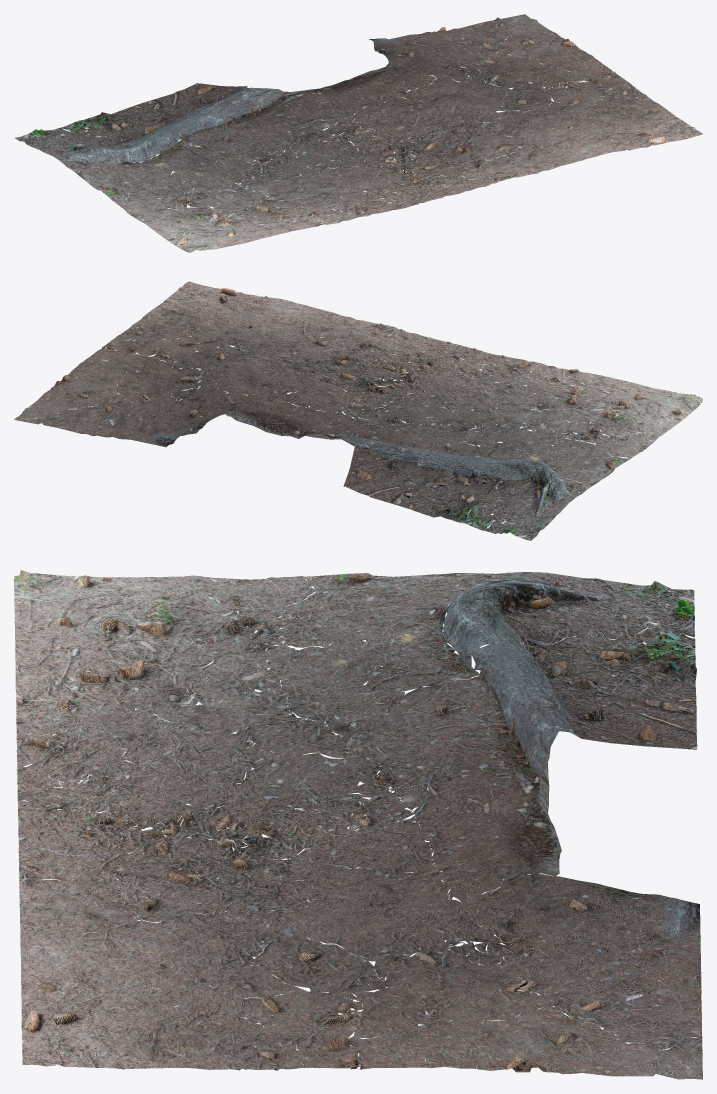
3 views of the same model, one above another, from view 1: azimuth 30°, elevation 25°; view 2: azimuth 150°, elevation 25°; view 3: azimuth 270°, elevation 25° (orthographic). The views are drawn at different scales.
Visible parts, largest first — view 1: Model_material0_0, Model_material1_0, Model_material2_0; view 2: Model_material0_0, Model_material1_0, Model_material2_0; view 3: Model_material1_0, Model_material0_0, Model_material2_0.
Part boxes in pixels (x1,y1,x2,y2): Model_material0_0: (62,66,628,252); Model_material1_0: (15,14,615,230); Model_material2_0: (103,68,702,226); Model_material0_0: (103,336,702,530); Model_material1_0: (14,306,599,540); Model_material2_0: (117,281,661,502); Model_material1_0: (15,572,702,1079); Model_material0_0: (14,569,697,1069); Model_material2_0: (16,575,635,1070).
Bounding box in the file's own units: 2.64 × 0.144 × 1.58.
3 materials, 3 textured.
